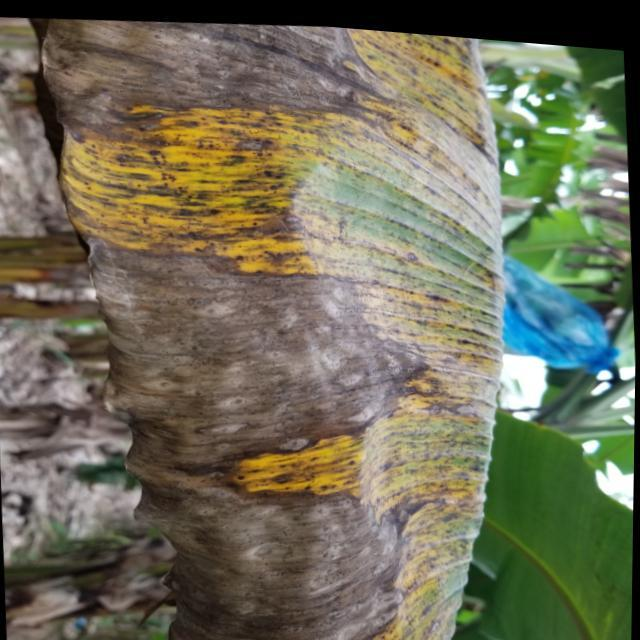Early_rust: (17, 0, 513, 640)
